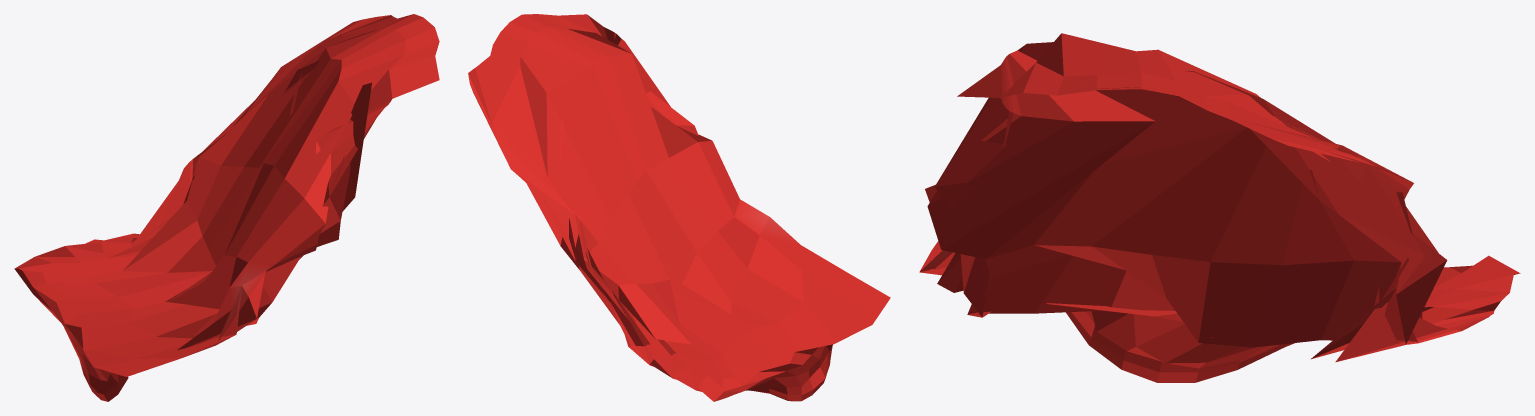
File: Petal1_4.glb
The picture shows the model from 3 angles, left to right: view 1: azimuth 30°, elevation 25°; view 2: azimuth 150°, elevation 25°; view 3: azimuth 270°, elevation 25°; orthographic projection. The views are drawn at different scales.
Parts seen in each view (by area): view 1: Cube.004; view 2: Cube.004; view 3: Cube.004.
Part boxes in pixels (bbox=[...]): Cube.004: bbox=[14, 14, 439, 401]; Cube.004: bbox=[468, 14, 890, 401]; Cube.004: bbox=[919, 33, 1520, 382].
Size of the model in its own units: 26.42 by 21.64 by 19.93.
